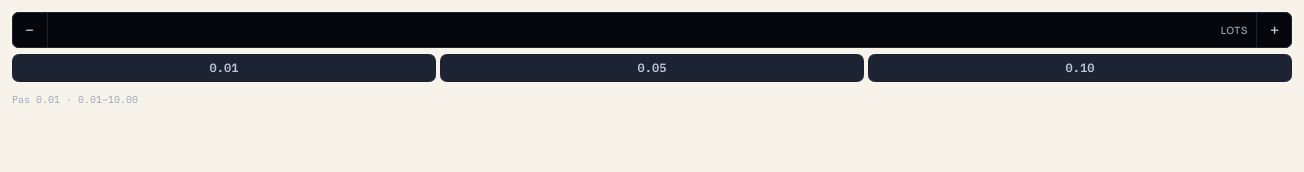
Test: QuantityControl › never rewrites what the trader is typing
This screenshot has width=1304, height=172.
Type "0.0" into the field named "Quantité (lots)".
click(652, 30); type("0.0")  # box 48,12 -> 1256,48
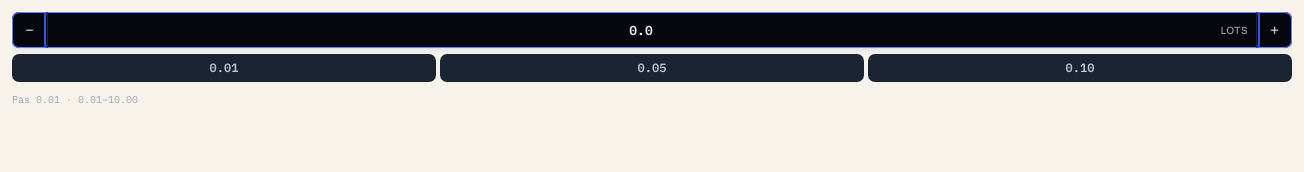
Type "5" into the field named "Quantité (lots)".
click(652, 30); type("5")  # box 48,12 -> 1256,48
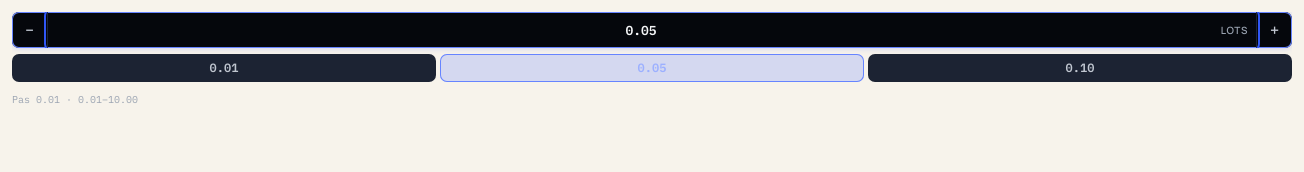
Result: the field named "Quantité (lots)" holds "0.05" at 48,12 -> 1256,48
